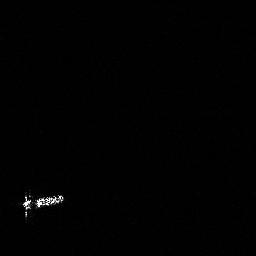ship: (21, 192, 65, 218)
